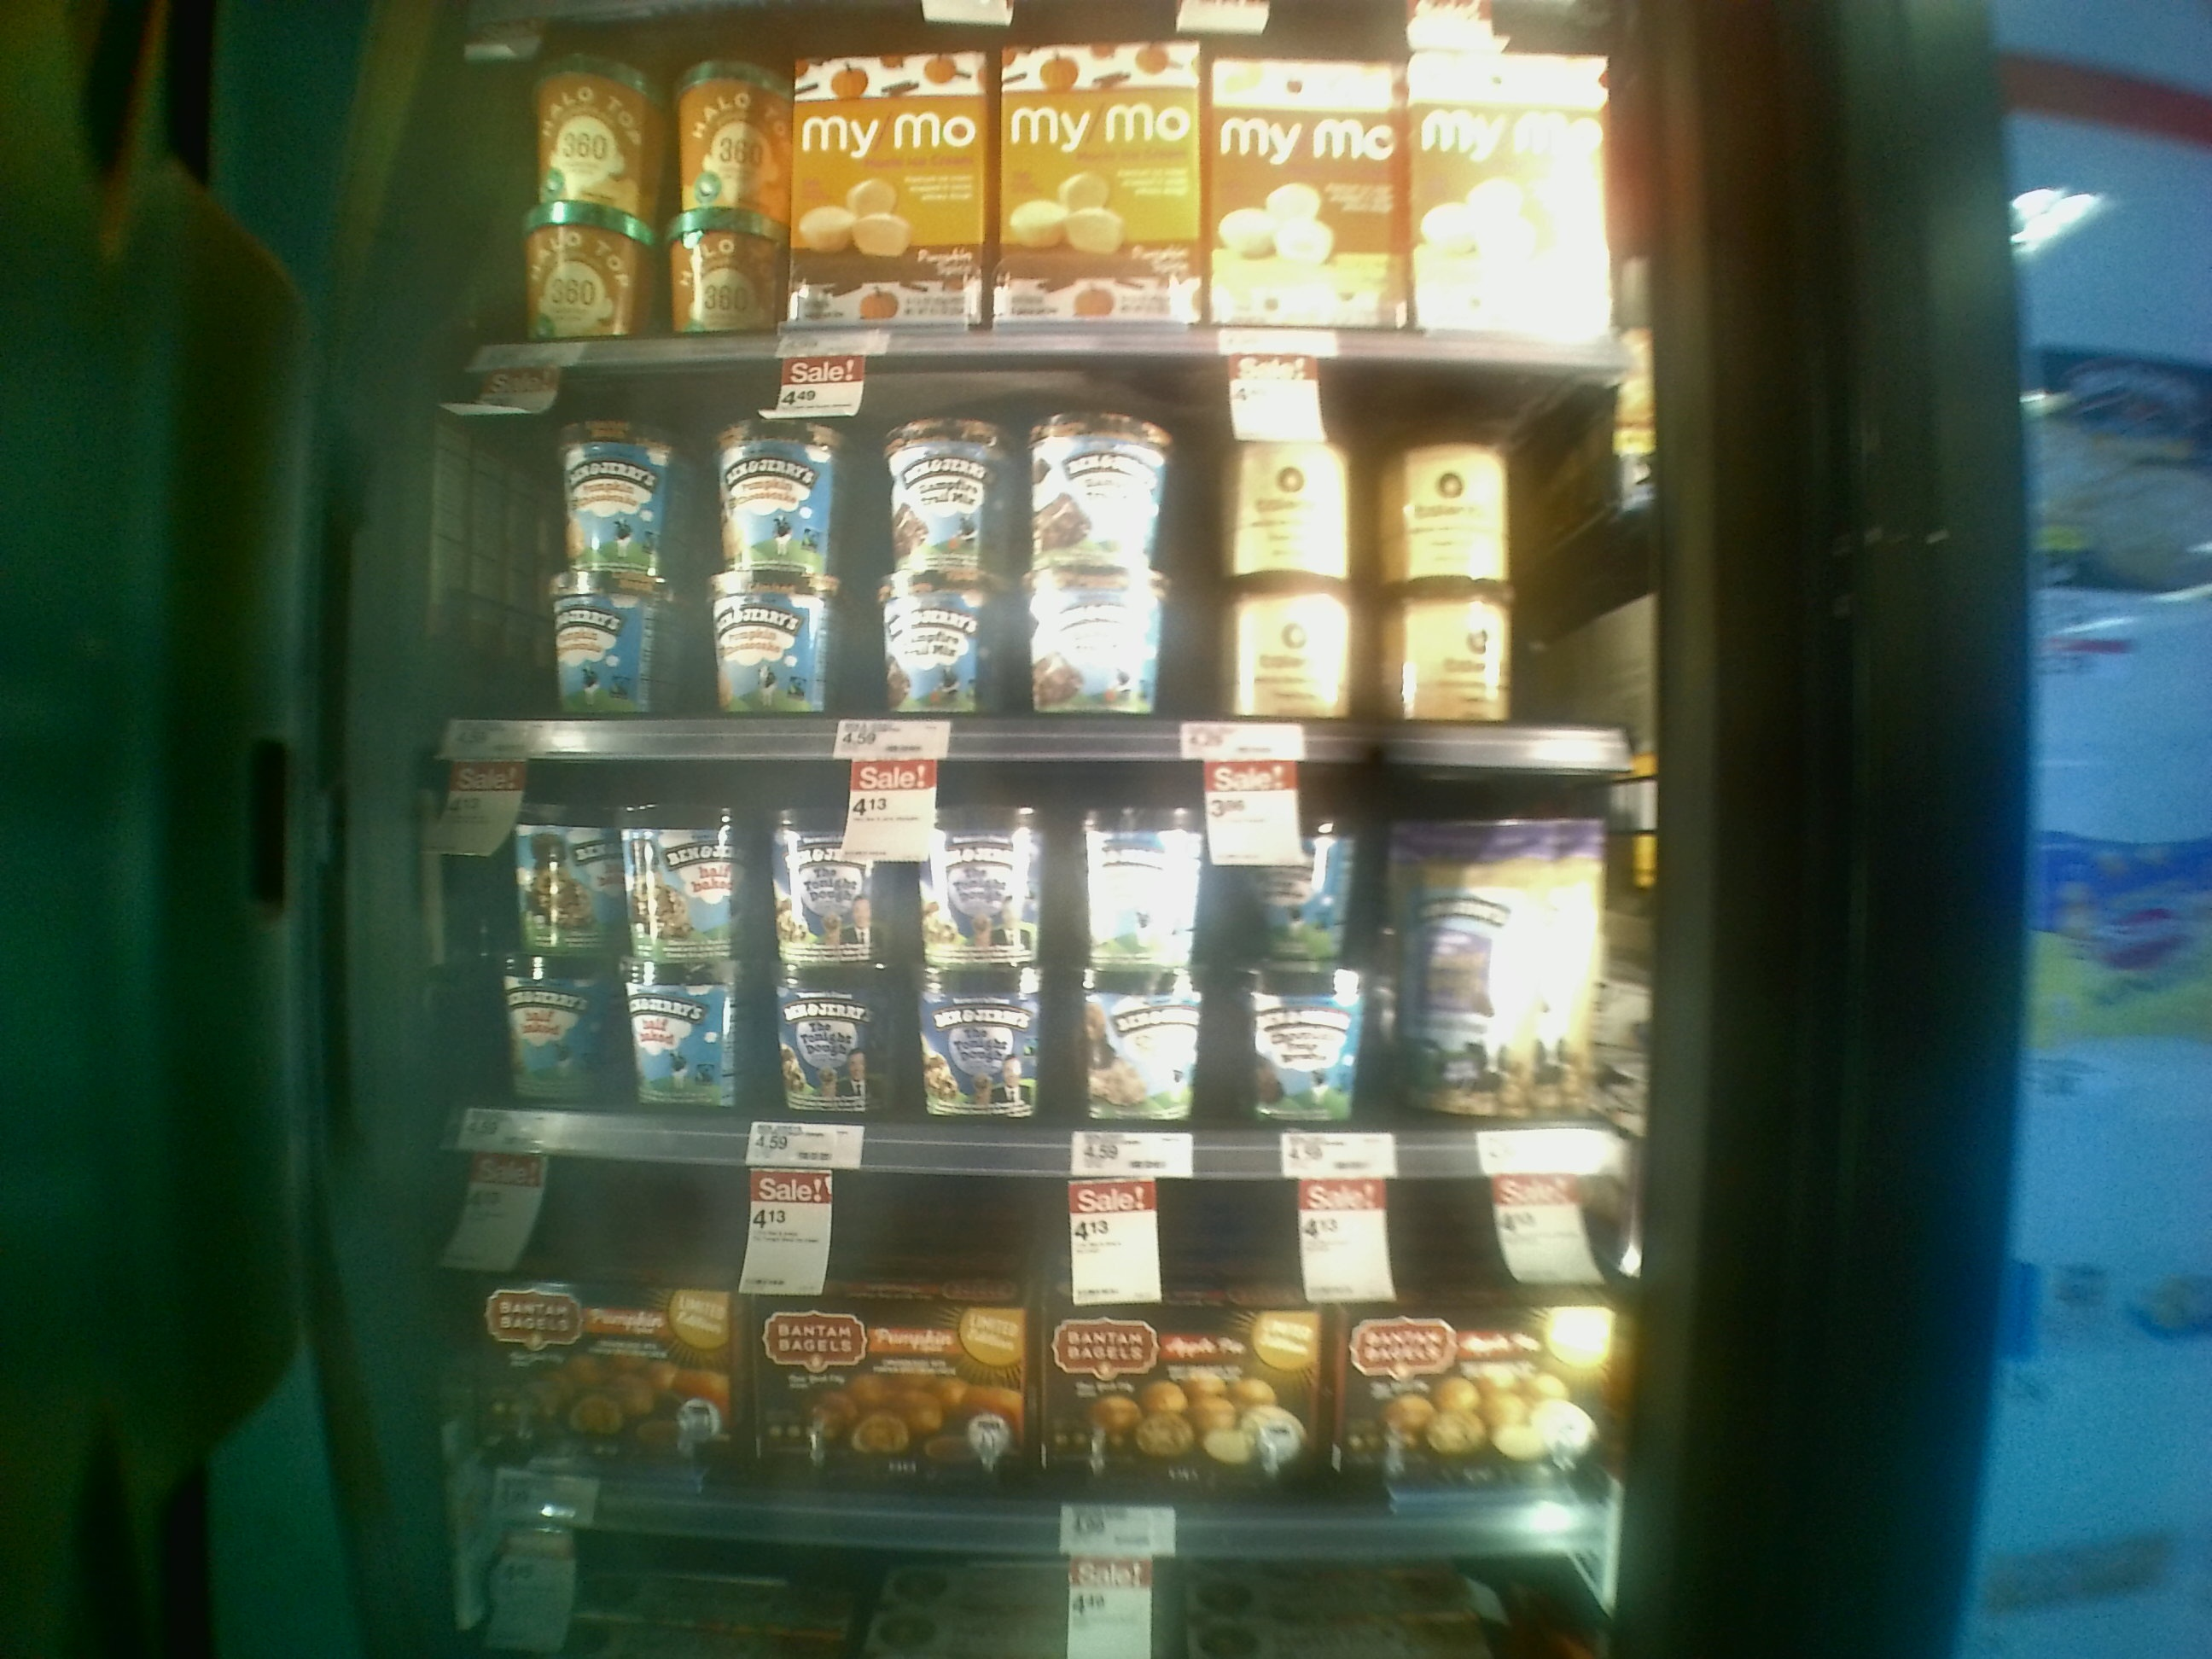shelf: (425, 742, 1663, 1171), (402, 1122, 1649, 1539), (451, 357, 1649, 774)
